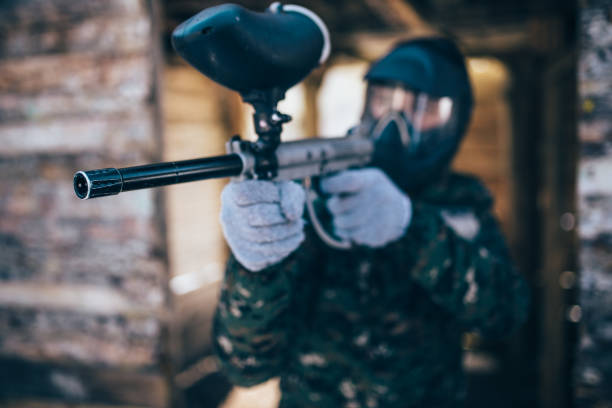gun: (72, 125, 377, 251)
